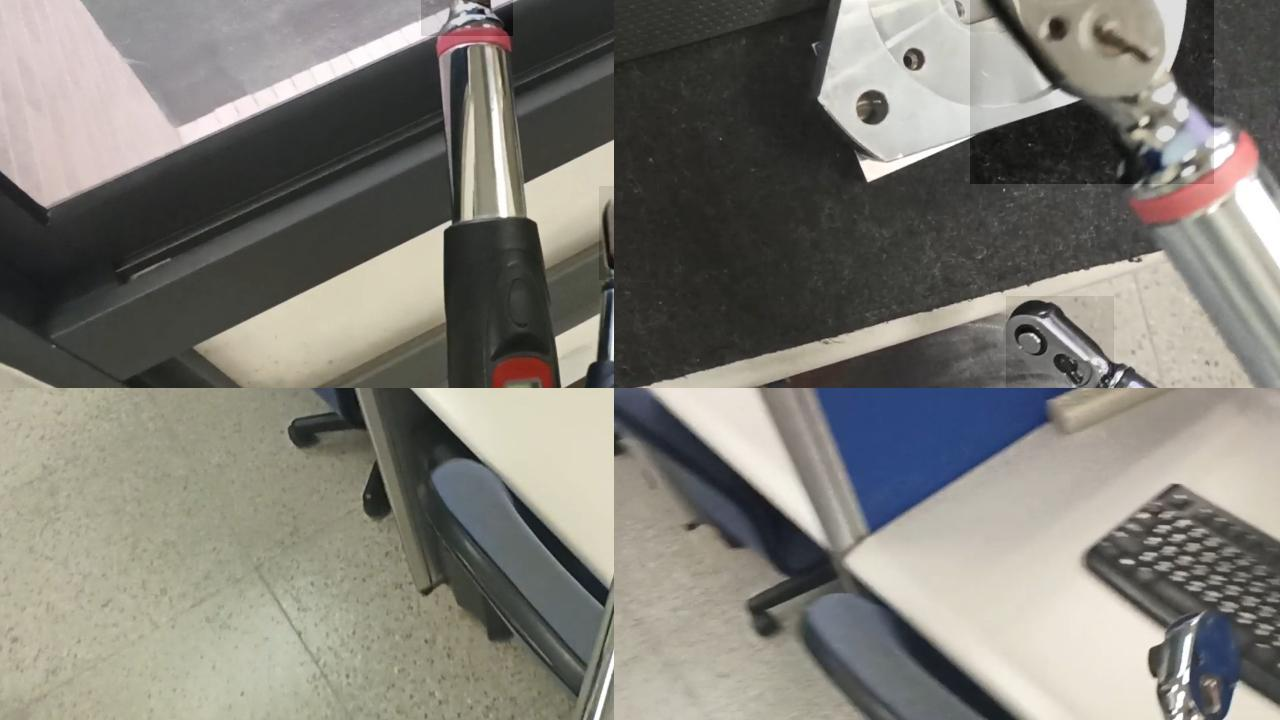Tool: (969, 0, 1213, 183), (1005, 295, 1113, 388), (420, 0, 512, 35), (598, 185, 614, 279)
